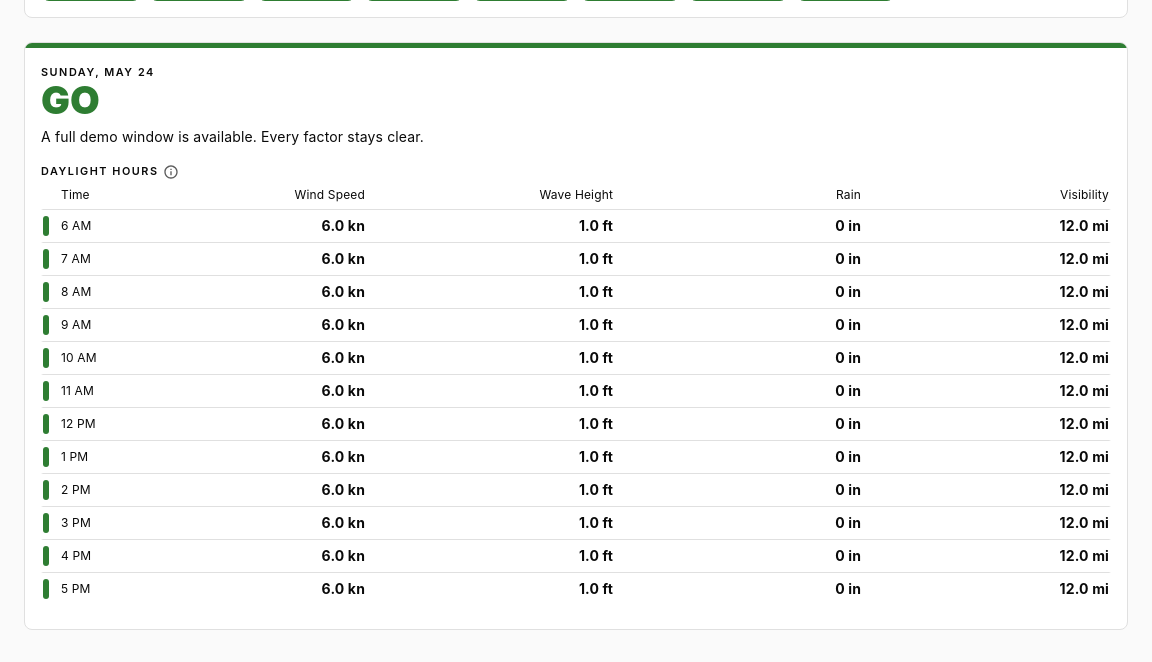
Test case: pin a demo window › clicking an hour opens the confirm dialog for the block centered on it
(page scrolled)
// Hovered 10 AM, 6-hour demo, leaning later → block starts at 8 AM and runs 8 AM–1 PM.
Click the button with aria-label "pin a demo window around 10 AM" at (576, 357), box [41,341,1111,374]
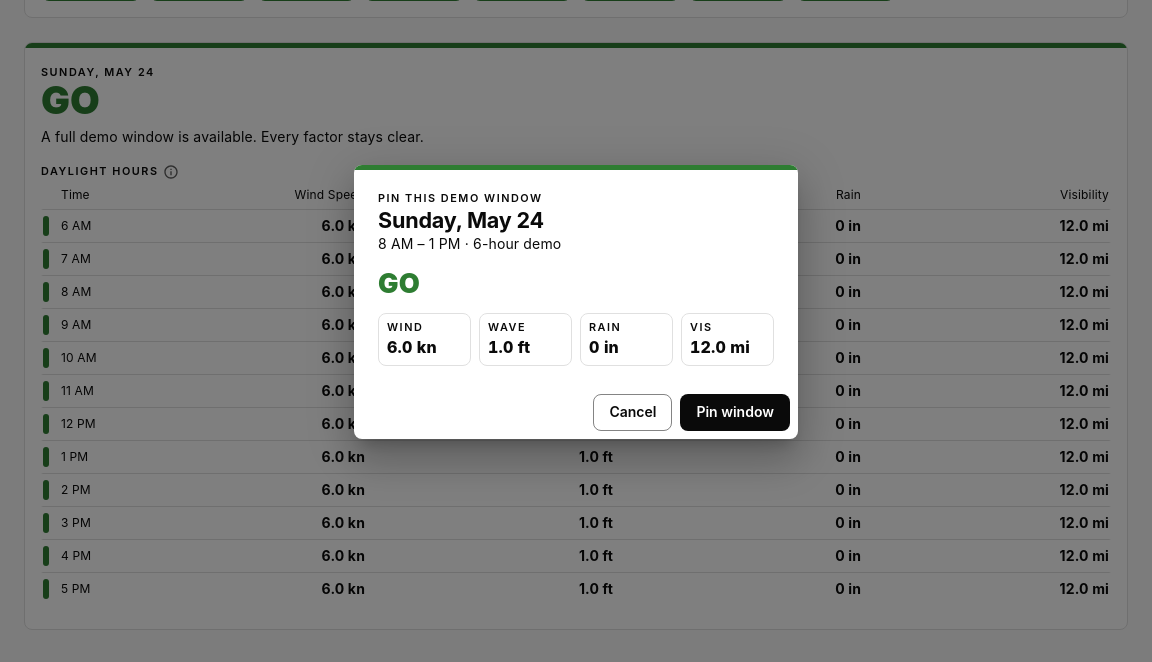
expect the text "Pin this demo window" is shown: met, box [378,191,543,205]
expect the text "8 AM – 1 PM · 6-hour demo" is shown: met, box [378,235,561,252]
expect the text "GO" is shown: met, box [378,267,420,300]
